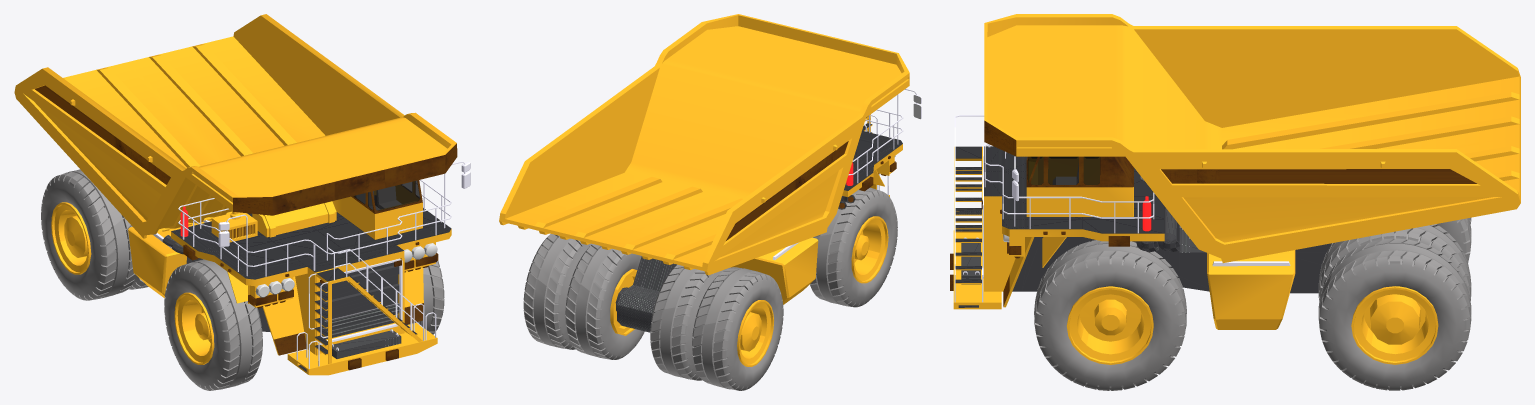
The picture shows the model from 3 angles, left to right: view 1: azimuth 30°, elevation 25°; view 2: azimuth 150°, elevation 25°; view 3: azimuth 270°, elevation 25°; orthographic projection. The views are drawn at different scales.
Parts seen in each view (by area): view 1: Body, Tires, Platform, Trim, Chassis, Part05, SeatsLights, Windows; view 2: Body, Tires, Chassis, Trim, Platform, Part05; view 3: Body, Tires, Trim, Platform, Chassis, Part05, Windows.
Boxes of the visible parts, x1,y1,x2,y2 form: Body: (14, 14, 456, 375); Tires: (41, 169, 444, 390); Platform: (171, 187, 451, 371); Trim: (35, 85, 457, 370); Chassis: (162, 235, 401, 358); Part05: (153, 161, 470, 368); SeatsLights: (255, 186, 437, 297); Windows: (353, 180, 420, 210); Body: (499, 14, 909, 366); Tires: (523, 187, 897, 390); Chassis: (615, 195, 855, 332); Trim: (726, 141, 896, 240); Platform: (844, 116, 902, 190); Part05: (772, 89, 921, 260); Body: (953, 14, 1520, 364); Tires: (1034, 217, 1471, 390); Trim: (950, 120, 1476, 306); Platform: (955, 146, 1164, 307); Chassis: (961, 207, 1331, 293); Part05: (954, 115, 1290, 302); Windows: (1027, 156, 1100, 184).
Bounding box in the file's own units: 246 × 211 × 420.
Materials: 9 (2 with a texture image).
